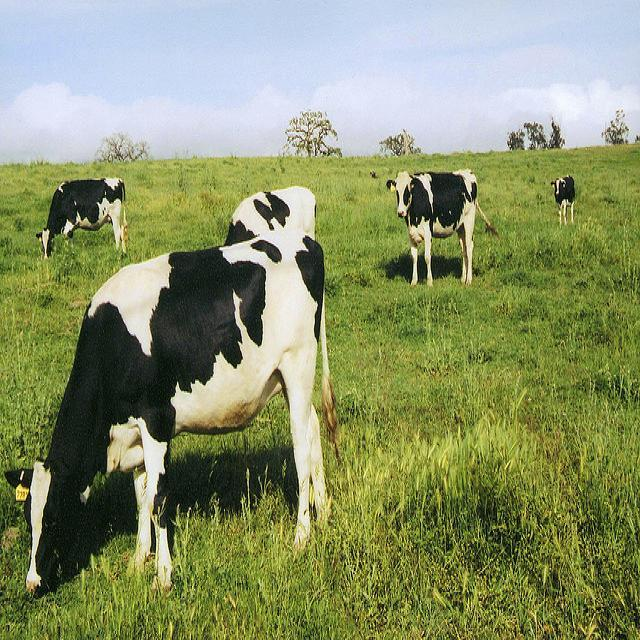cow: (0, 219, 340, 602), (384, 165, 498, 285), (32, 174, 130, 258), (222, 182, 317, 245), (549, 172, 573, 225)
